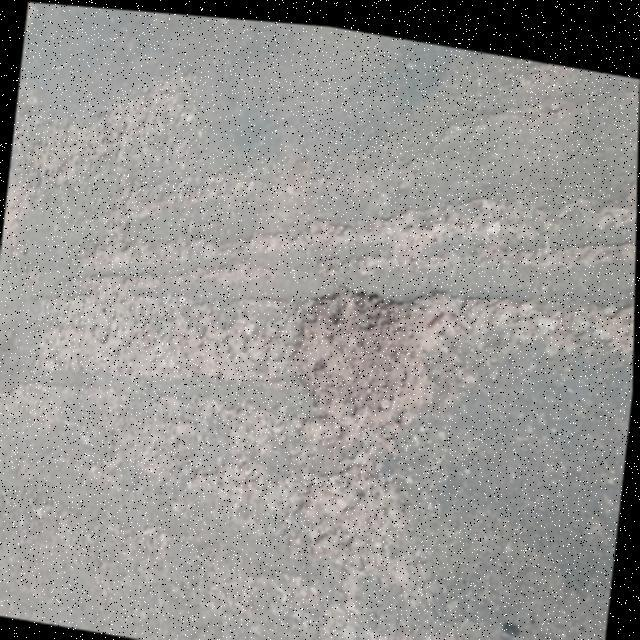pothole: (269, 242, 463, 556)
